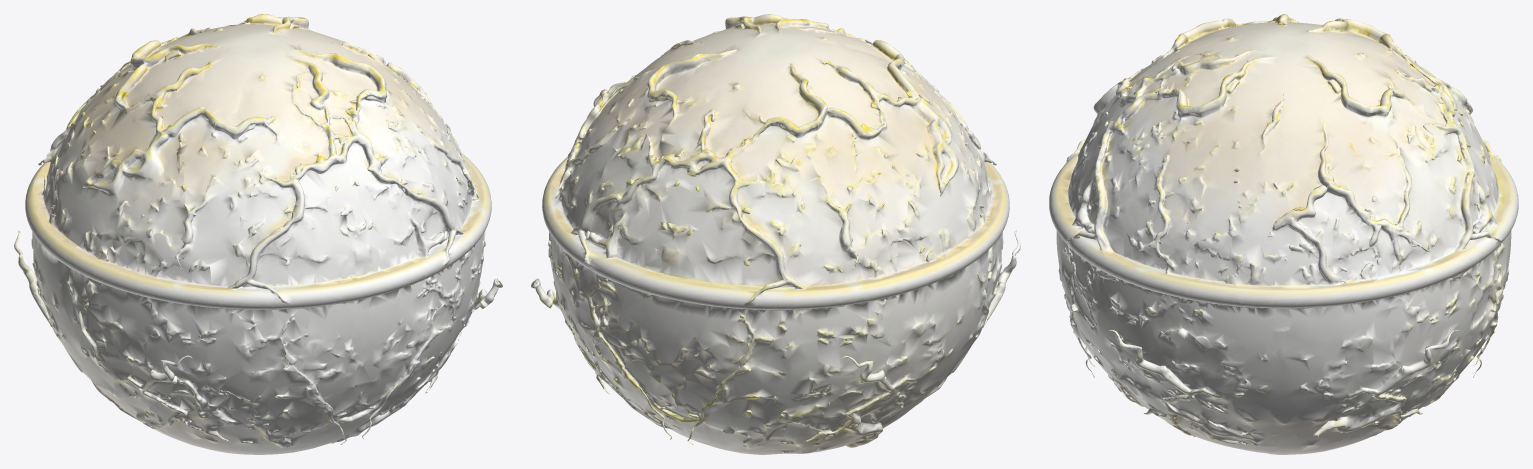
The model's file is shaddai-blast.glb.
3 renders of one model, left to right at view 1: azimuth 30°, elevation 25°; view 2: azimuth 150°, elevation 25°; view 3: azimuth 270°, elevation 25°, orthographic.
Bounding box in the file's own units: 1.9 × 1.75 × 1.9.
Materials: 1 (1 with a texture image).
